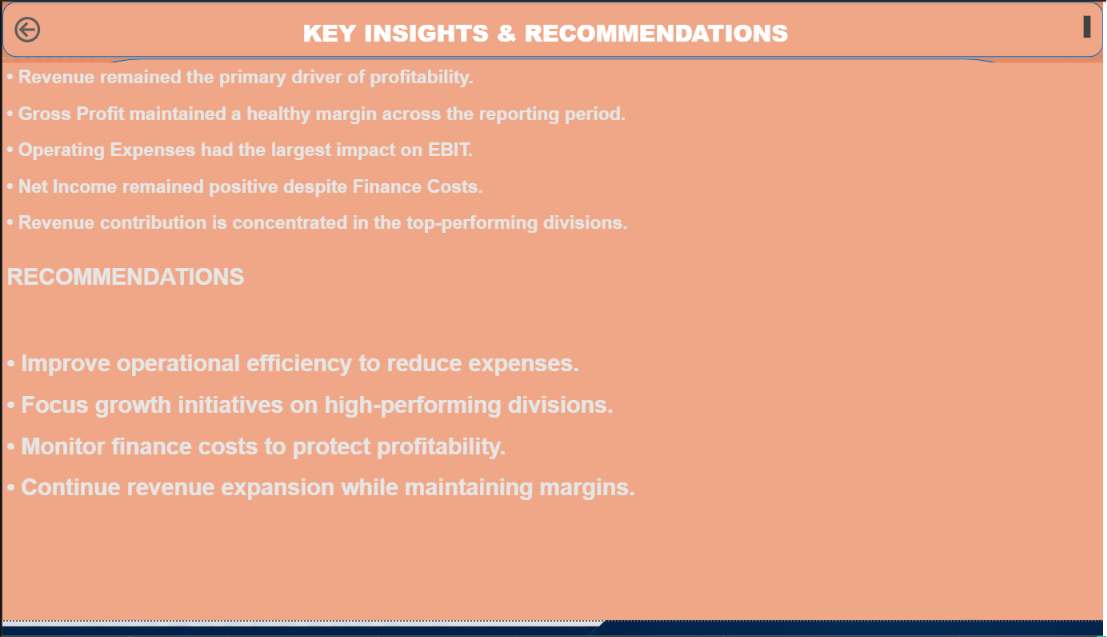

This screenshot's page, from the dashboard's own definition file:
{"tool":"powerbi","page":{"name":"Key Insights and Recommendations","canvas":[1280,720],"ordinal":4},"visuals":[{"type":"group","id":"g1","title":"Group 1","box":[0,0,1280,64.4],"z":0},{"type":"shape","box":[0,0,1280,64.4],"z":0,"group":"g2"},{"type":"shape","box":[0,65.8,1280.2,653.5],"z":0,"group":"g3"},{"type":"group","id":"g2","title":"Group 2","box":[0,0,1280,64.4],"z":3,"group":"g1"},{"type":"group","id":"g3","title":"Group 2","box":[0,65.8,1280.2,653.5],"z":3,"group":"g4"},{"type":"textbox","box":[9.5,11.6,1261,41.2],"z":1000,"group":"g2"},{"type":"group","id":"g4","title":"Group 1","box":[0,65.8,1280.2,653.5],"z":1000},{"type":"textbox","box":[0,70.7,1280.2,647.7],"z":1000,"group":"g3"},{"type":"actionButton","box":[9.3,12.8,50,39.5],"z":1001,"group":"g1"}]}

Visuals, with their boxes in screenshot pixels (x1, y1, x2, y2), scaled from the page's 1280x720 canvas onto the 1107x637 screenshot:
"Group 1" group: [left=0, top=0, right=1106, bottom=57]
shape: [left=0, top=0, right=1106, bottom=57]
shape: [left=0, top=58, right=1106, bottom=636]
"Group 2" group: [left=0, top=0, right=1106, bottom=57]
"Group 2" group: [left=0, top=58, right=1106, bottom=636]
textbox: [left=8, top=10, right=1099, bottom=47]
"Group 1" group: [left=0, top=58, right=1106, bottom=636]
textbox: [left=0, top=63, right=1106, bottom=636]
actionButton: [left=8, top=11, right=51, bottom=46]
